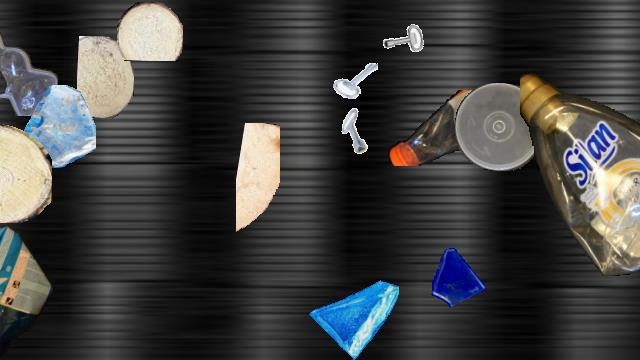glass: (308, 269, 398, 359), (13, 85, 95, 167), (426, 245, 488, 307)
metal: (371, 2, 427, 58), (334, 108, 380, 154), (333, 59, 377, 103)
plastic: (520, 66, 640, 276), (386, 90, 532, 166), (455, 83, 543, 171), (0, 221, 52, 359), (0, 29, 59, 115), (633, 92, 640, 252)
wood: (236, 123, 280, 239), (0, 124, 51, 222), (77, 36, 133, 118), (117, 2, 183, 60)
